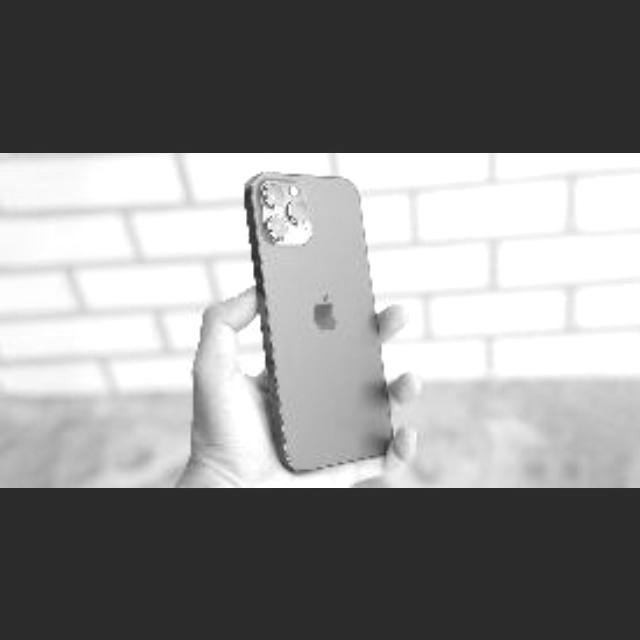fake: (208, 156, 464, 488)
